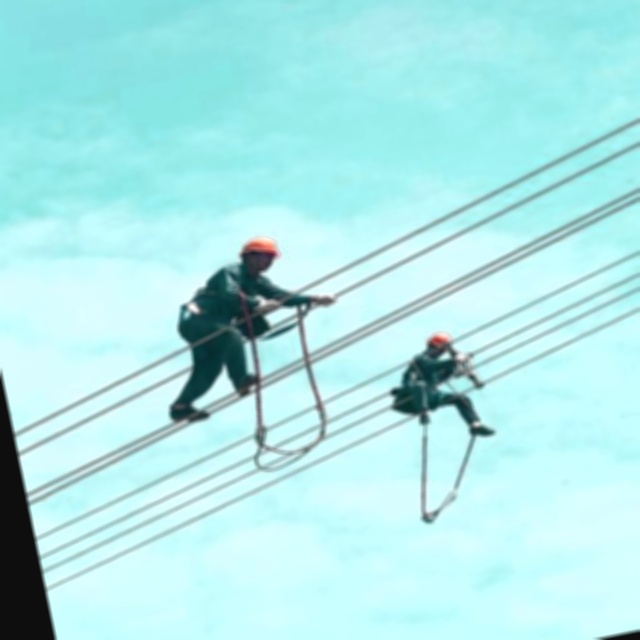Con_Casco: (235, 233, 286, 277)
